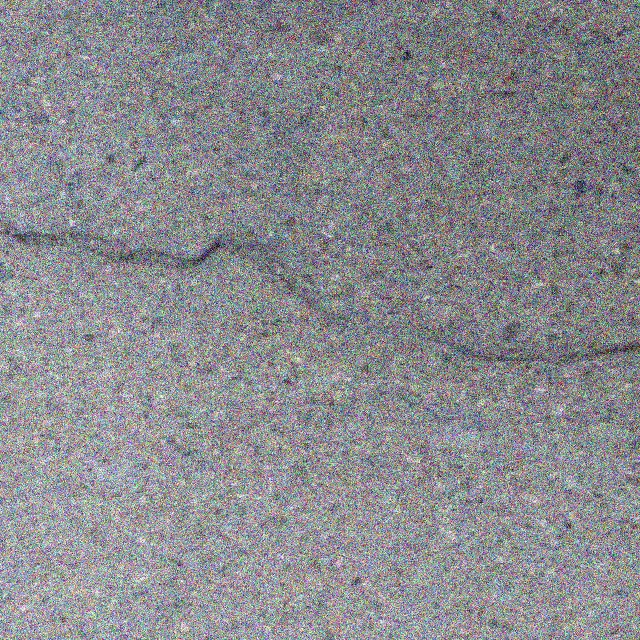SurfaceCrack: (10, 200, 640, 398)
